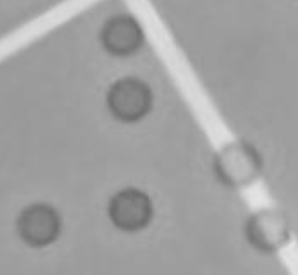cell: (206, 132, 267, 191), (100, 70, 158, 128), (10, 195, 67, 250), (101, 180, 156, 235), (239, 201, 294, 256), (94, 8, 147, 60)
